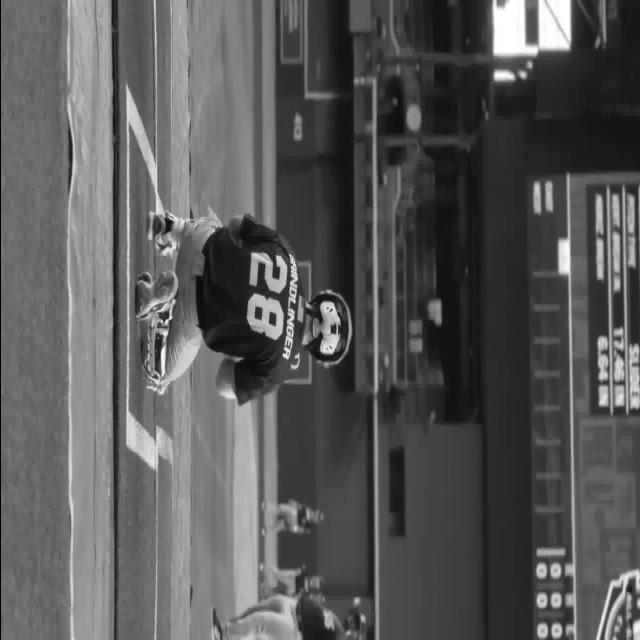shoe: (134, 270, 178, 320), (146, 210, 172, 240), (212, 607, 222, 639)
